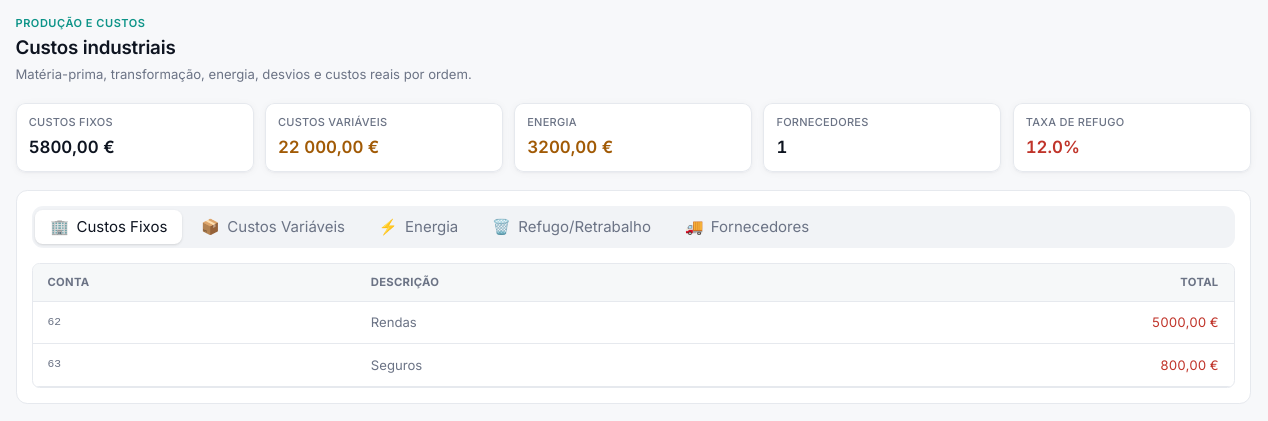
IndustrialCostsPage › switches to the suppliers tab and shows supplier rows
Expected: the text "Rendas" is shown, [356, 302, 798, 344]
Click the button "🚚 Fornecedores": [747, 227] box [670, 210, 824, 244]
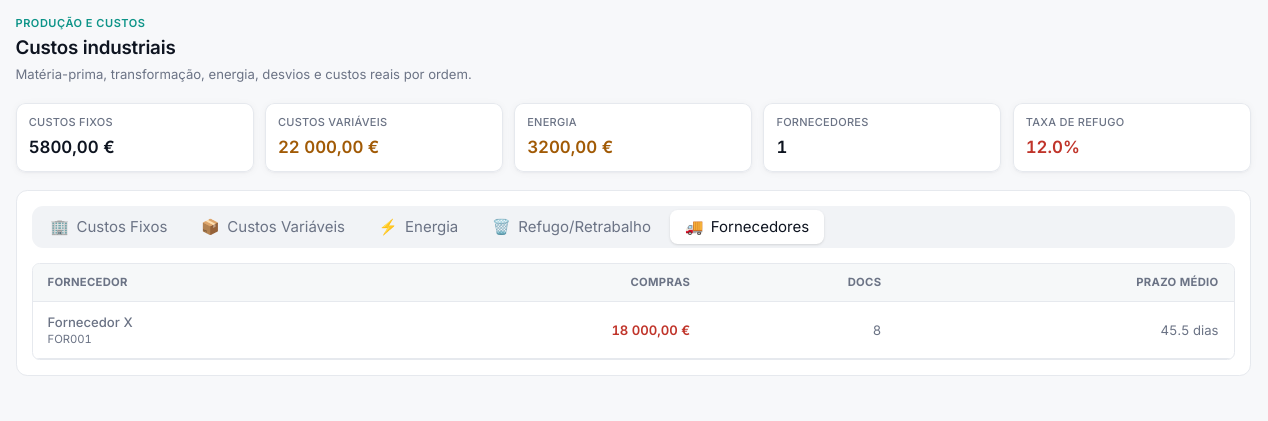
Expected: the text "Fornecedor X" is shown, [48, 314, 133, 330]
Expected: the text "FOR001" is shown, [48, 332, 92, 346]
Expected: the text "45.5 dias" is shown, [896, 302, 1234, 359]
